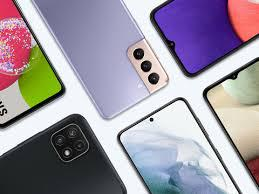Smartphone: (33, 1, 155, 126), (192, 80, 259, 194), (161, 0, 259, 77), (140, 113, 229, 194), (0, 135, 111, 194), (0, 0, 54, 117)
